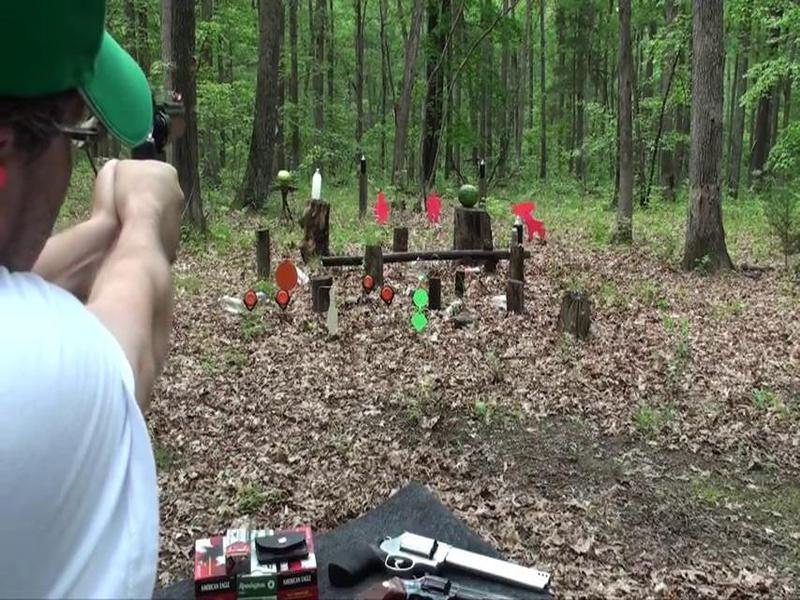Revolver: (123, 75, 196, 198)
